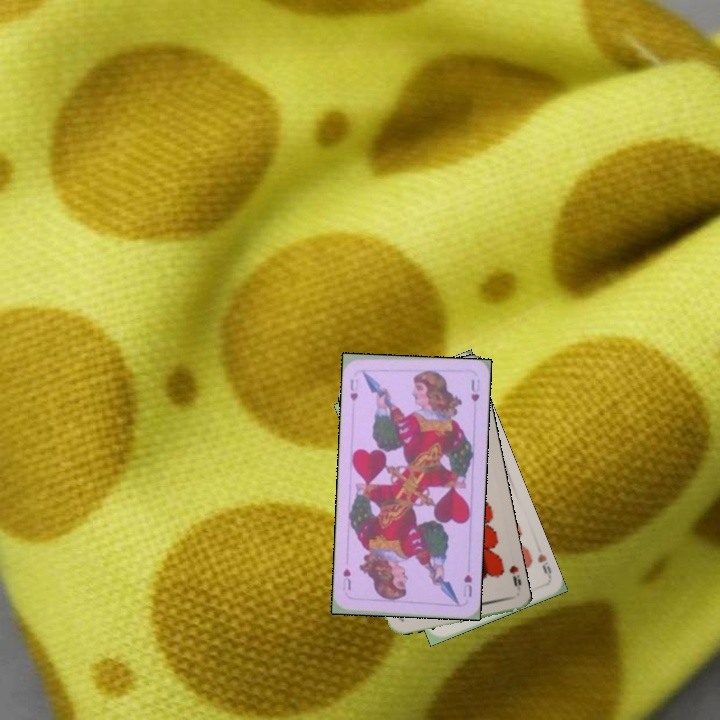H9: (533, 549, 554, 581), (505, 561, 524, 588)
HU: (459, 570, 475, 600), (346, 375, 360, 403)
